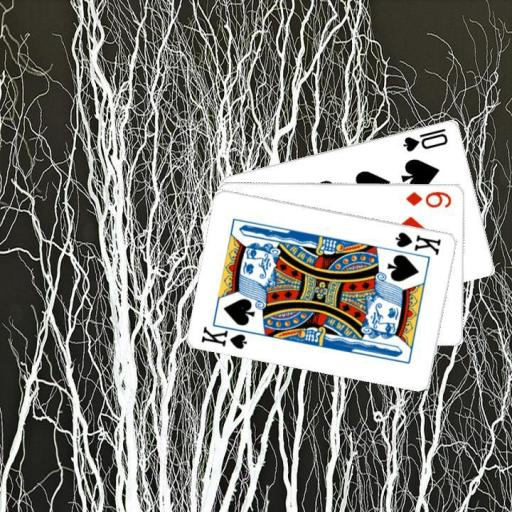10S: (400, 124, 450, 153)
6D: (403, 188, 454, 208)
KS: (199, 319, 256, 351), (392, 228, 443, 256)
